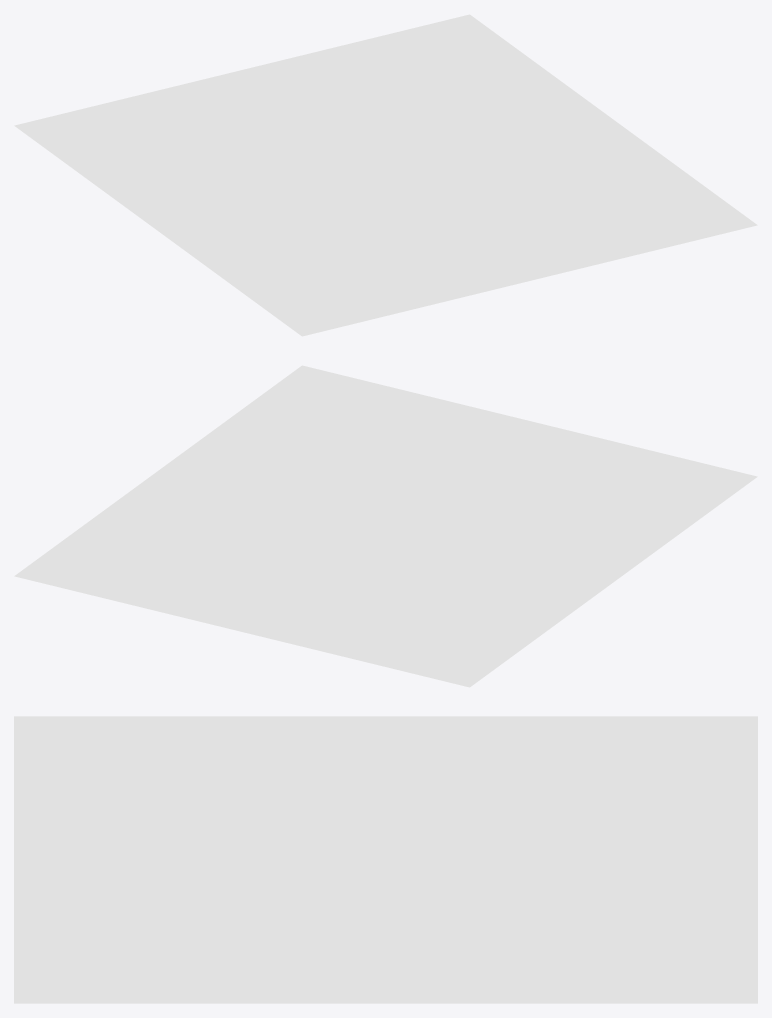
The model's file is paper_01.fbx.
3 renders of one model, top to bottom at view 1: azimuth 30°, elevation 25°; view 2: azimuth 150°, elevation 25°; view 3: azimuth 270°, elevation 25°, orthographic. The views are drawn at different scales.
Parts seen in each view (by area): view 1: Paper; view 2: Paper; view 3: Paper.
Part boxes in pixels (left/top/right/bottom): Paper: left=14, top=14, right=757, bottom=336; Paper: left=14, top=365, right=757, bottom=687; Paper: left=14, top=716, right=757, bottom=1003.
Bounding box in the file's own units: 7.61 × 0 × 8.33.
